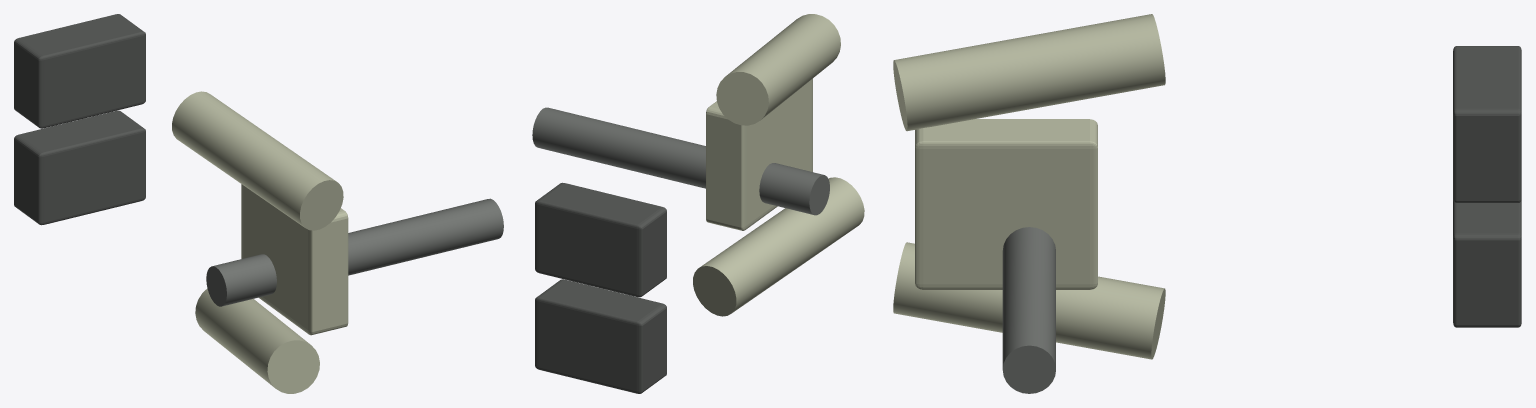
File: v-u10-vanguard-operator-lod2.glb
3 renders of one model, left to right at view 1: azimuth 30°, elevation 25°; view 2: azimuth 150°, elevation 25°; view 3: azimuth 270°, elevation 25°, orthographic. The views are drawn at different scales.
Visible parts, largest first — view 1: soldier_0_boot_1, soldier_0_boot_-1, soldier_0_arm_1, soldier_0_chest, soldier_0_rifle, soldier_0_arm_-1; view 2: soldier_0_boot_-1, soldier_0_boot_1, soldier_0_rifle, soldier_0_chest, soldier_0_arm_-1, soldier_0_arm_1; view 3: soldier_0_chest, soldier_0_arm_1, soldier_0_arm_-1, soldier_0_boot_1, soldier_0_boot_-1, soldier_0_rifle.
Part boxes in pixels (<box>): soldier_0_boot_1: <box>14,14,145,128</box>; soldier_0_boot_-1: <box>14,110,145,225</box>; soldier_0_arm_1: <box>172,91,343,230</box>; soldier_0_chest: <box>241,184,348,335</box>; soldier_0_rifle: <box>206,198,503,306</box>; soldier_0_arm_-1: <box>195,288,319,393</box>; soldier_0_boot_-1: <box>535,279,666,393</box>; soldier_0_boot_1: <box>535,182,666,297</box>; soldier_0_rifle: <box>532,107,829,215</box>; soldier_0_chest: <box>706,78,812,230</box>; soldier_0_arm_-1: <box>693,177,864,316</box>; soldier_0_arm_1: <box>716,14,840,125</box>; soldier_0_chest: <box>915,119,1097,289</box>; soldier_0_arm_1: <box>893,14,1165,131</box>; soldier_0_arm_-1: <box>893,242,1165,359</box>; soldier_0_boot_1: <box>1453,46,1521,202</box>; soldier_0_boot_-1: <box>1453,198,1521,327</box>; soldier_0_rifle: <box>1002,227,1055,393</box>.
Size of what is drawn, in the model's own units: 1.13 by 0.9312 by 1.65.
